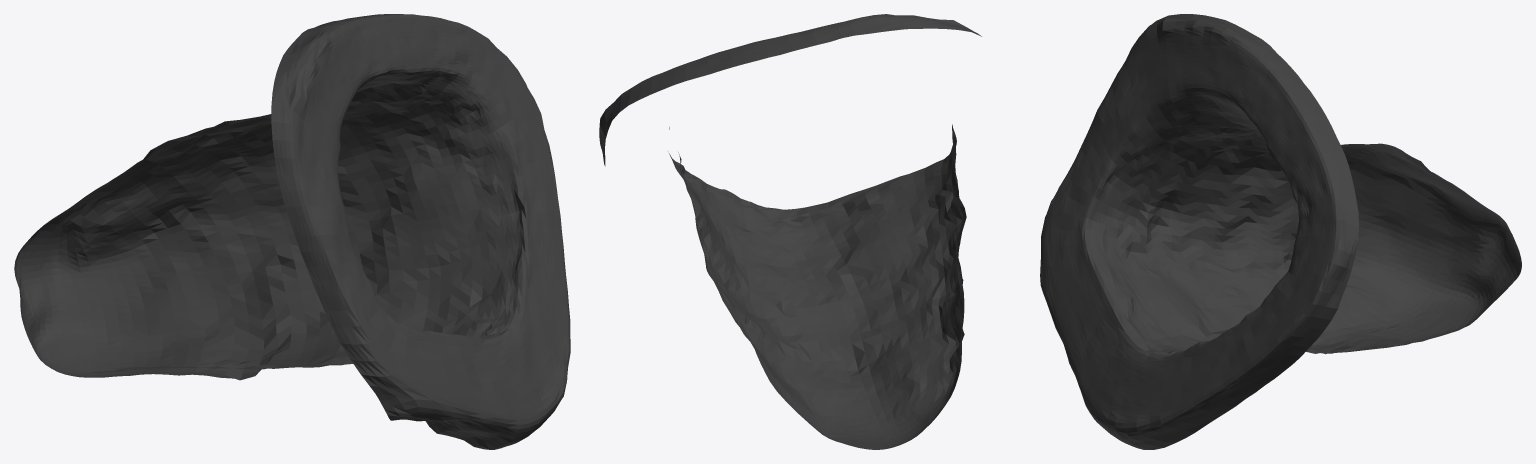
3 renders of one model, left to right at view 1: azimuth 30°, elevation 25°; view 2: azimuth 150°, elevation 25°; view 3: azimuth 270°, elevation 25°, orthographic. The views are drawn at different scales.
Parts seen in each view (by area): view 1: Group38351; view 2: Group38351; view 3: Group38351.
Part boxes in pixels (<box>): Group38351: <box>14,14,570,449</box>; Group38351: <box>599,14,981,449</box>; Group38351: <box>1040,14,1521,449</box>.
Bounding box in the file's own units: 0.5754 × 0.4857 × 0.5943.
1 material, 1 textured.
